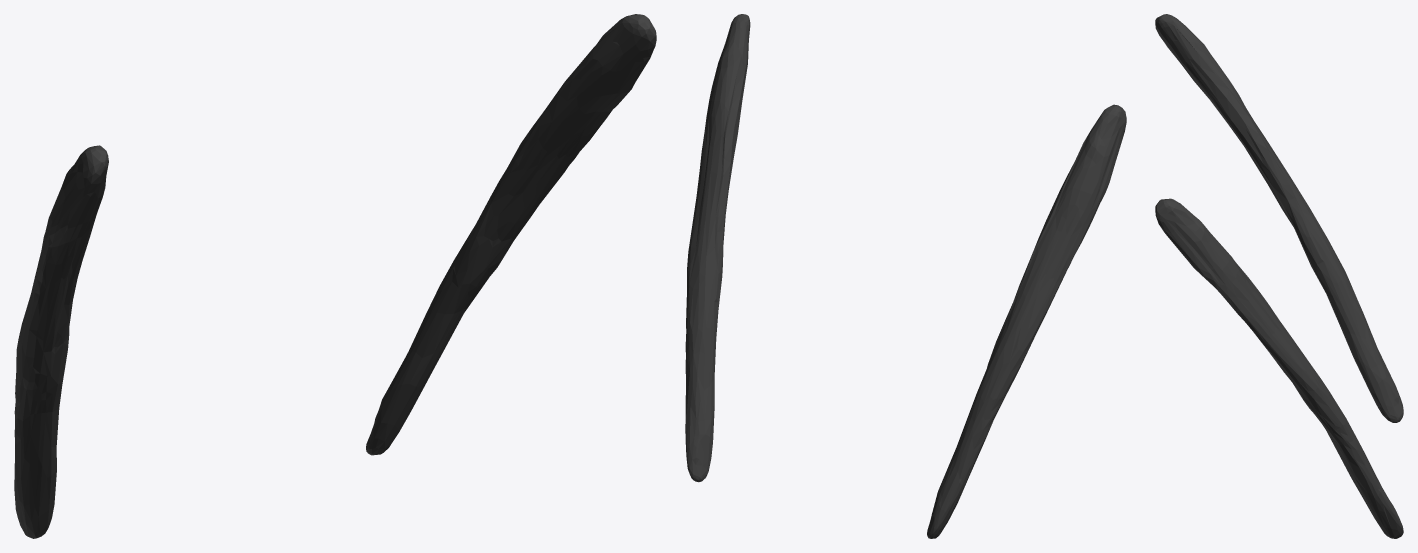
File: m_flexor_digitorum_superficialis_HL.glb
The picture shows the model from 3 angles, left to right: view 1: azimuth 30°, elevation 25°; view 2: azimuth 150°, elevation 25°; view 3: azimuth 270°, elevation 25°; orthographic projection. The views are drawn at different scales.
Visible parts, largest first — view 1: m_flexor_digitorum_superficialis_HL; view 2: m_flexor_digitorum_superficialis_HL; view 3: m_flexor_digitorum_superficialis_HL.
Part boxes in pixels (x1,y1,x2,y2): m_flexor_digitorum_superficialis_HL: [14, 14, 656, 538]; m_flexor_digitorum_superficialis_HL: [685, 14, 1126, 538]; m_flexor_digitorum_superficialis_HL: [1155, 14, 1403, 538].
Size of the model in its own units: 0.00663 by 0.0059 by 0.00356.
1 material, 1 textured.
